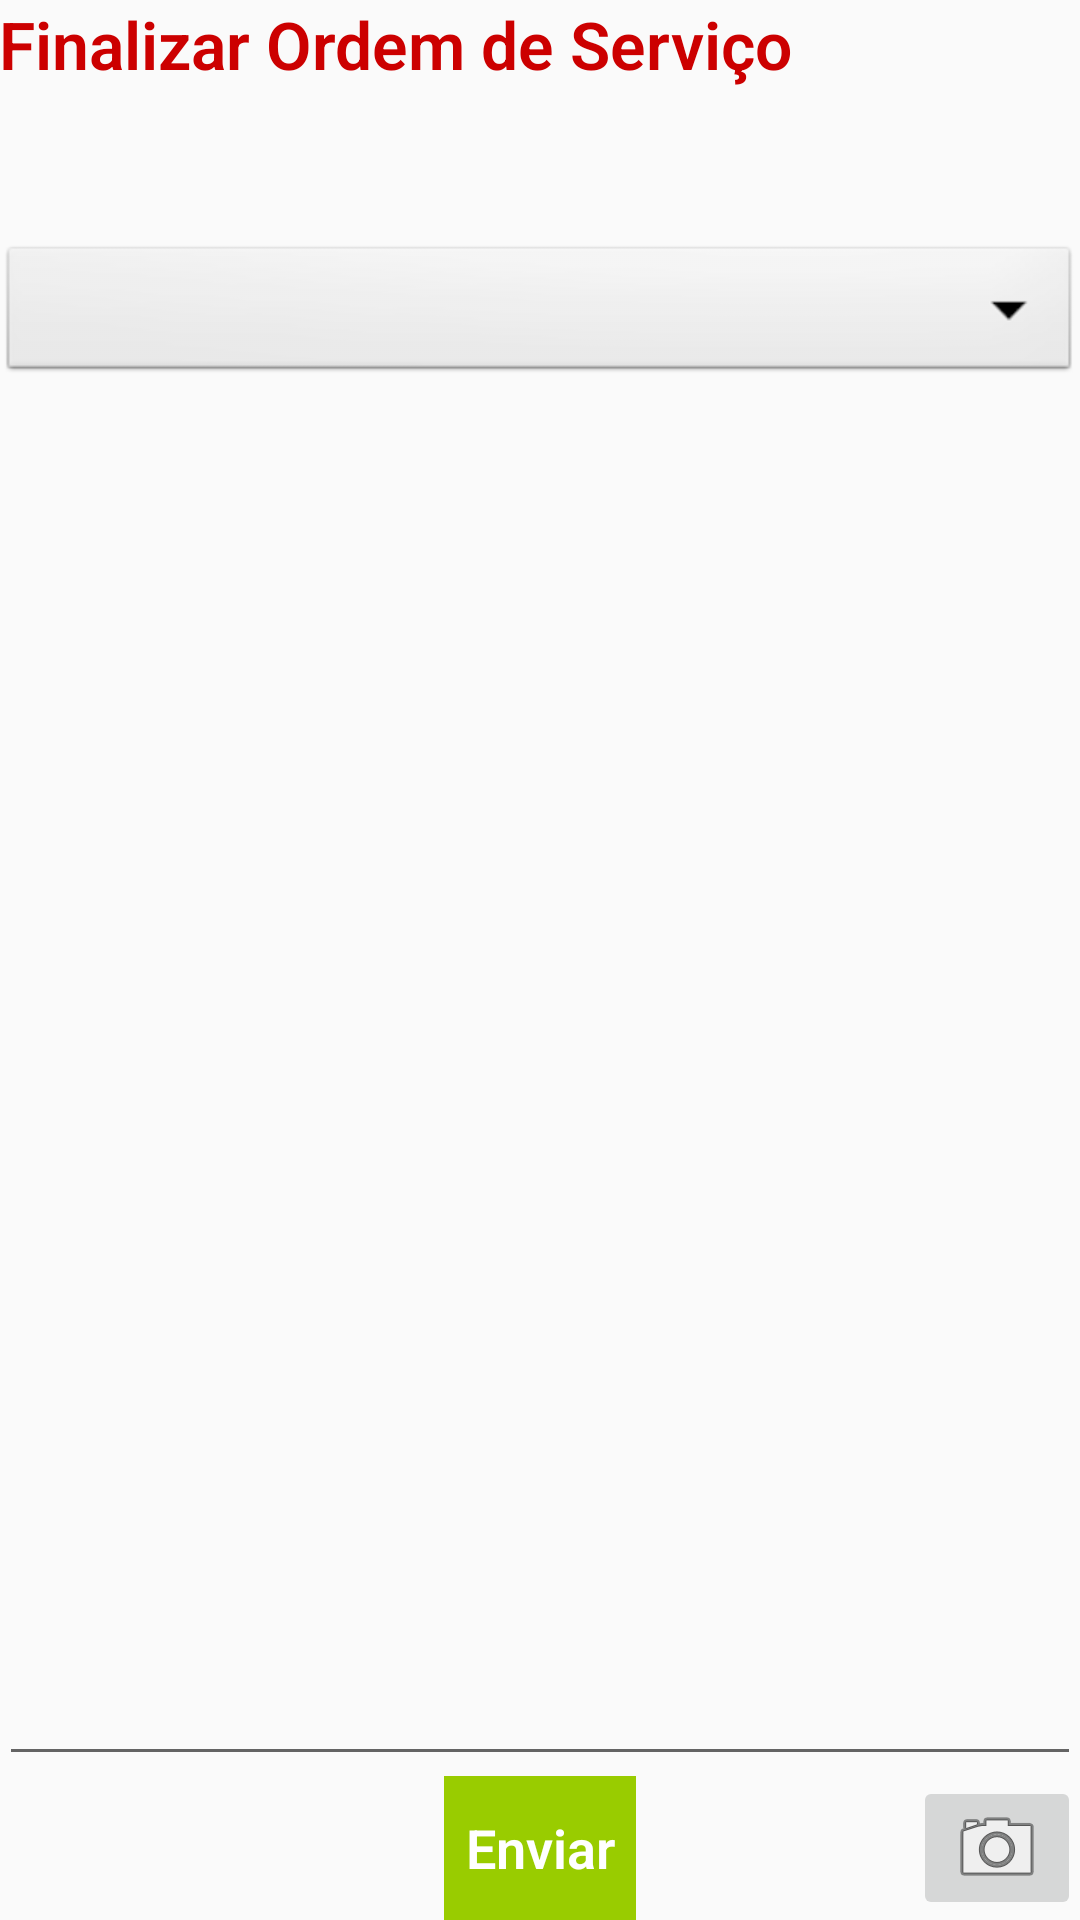

Locate icon controls on the screen. Image size 1080 x 1920, boxes as (x1, y1, x2, y2).
camera: (925, 1794, 1069, 1902)
